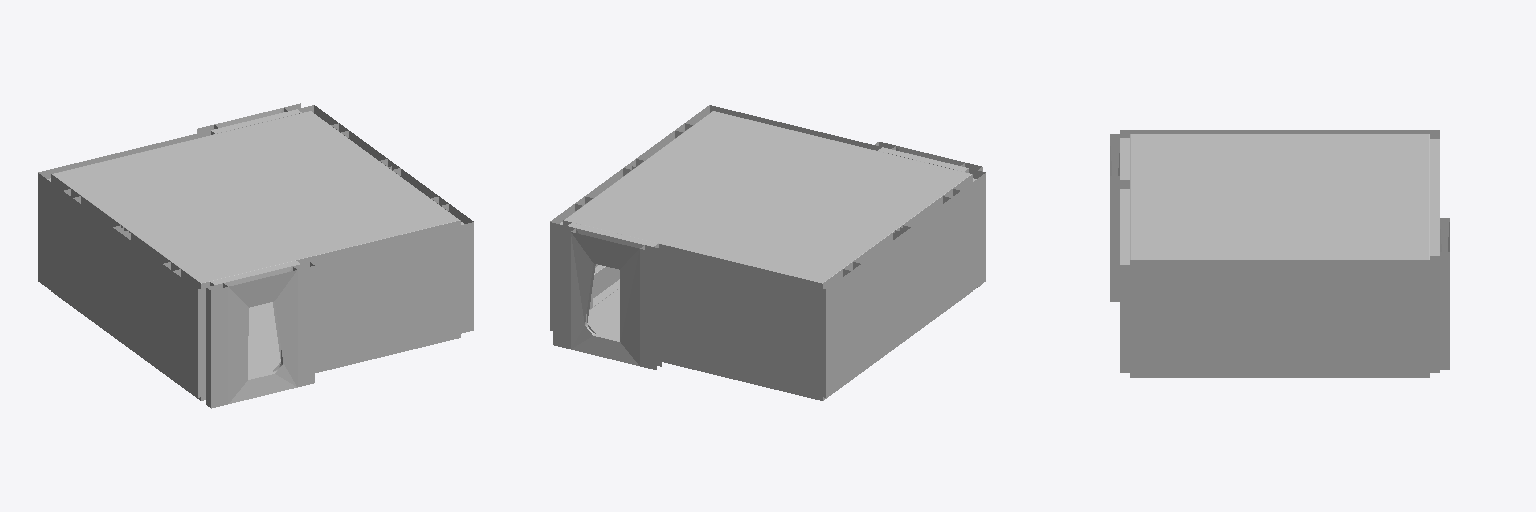
Rendered from Room.obj.
3 renders of one model, left to right at view 1: azimuth 30°, elevation 25°; view 2: azimuth 150°, elevation 25°; view 3: azimuth 270°, elevation 25°, orthographic.
Visible parts, largest first — view 1: Cube.026_Cube.016, Cube.210_Cube.126, Circle.003_Circle.002, Cube.028_Cube.024, Cube.005_Cube.009, Cube.211_Cube.125, Cube.209_Cube.123; view 2: Cube.210_Cube.126, Cube.026_Cube.016, Circle.001, Cube.027_Cube.021, Cube.005_Cube.009, Cube.211_Cube.125, Cube.209_Cube.123; view 3: Cube.026_Cube.016, Cube.210_Cube.126, Cube.005_Cube.009, Cube.028_Cube.024, Cube.209_Cube.123, Cube.027_Cube.021.
Part boxes in pixels (x1,y1,x2,y2): Cube.026_Cube.016: (52, 111, 459, 283); Cube.210_Cube.126: (38, 105, 473, 397); Circle.003_Circle.002: (224, 266, 297, 403); Cube.028_Cube.024: (206, 262, 314, 408); Cube.005_Cube.009: (47, 109, 463, 288); Cube.211_Cube.125: (248, 302, 280, 377); Cube.209_Cube.123: (51, 291, 460, 400); Cube.210_Cube.126: (550, 105, 985, 397); Cube.026_Cube.016: (564, 111, 971, 283); Circle.001: (571, 228, 643, 365); Cube.027_Cube.021: (553, 224, 661, 369); Cube.005_Cube.009: (560, 112, 976, 288); Cube.211_Cube.125: (587, 288, 619, 339); Cube.209_Cube.123: (591, 279, 972, 400); Cube.026_Cube.016: (1130, 134, 1429, 259); Cube.210_Cube.126: (1120, 130, 1439, 372); Cube.005_Cube.009: (1120, 138, 1439, 264); Cube.028_Cube.024: (1110, 134, 1119, 301); Cube.209_Cube.123: (1130, 373, 1429, 377); Cube.027_Cube.021: (1440, 218, 1449, 369).
Bounding box in the file's own units: 32 × 13 × 34.